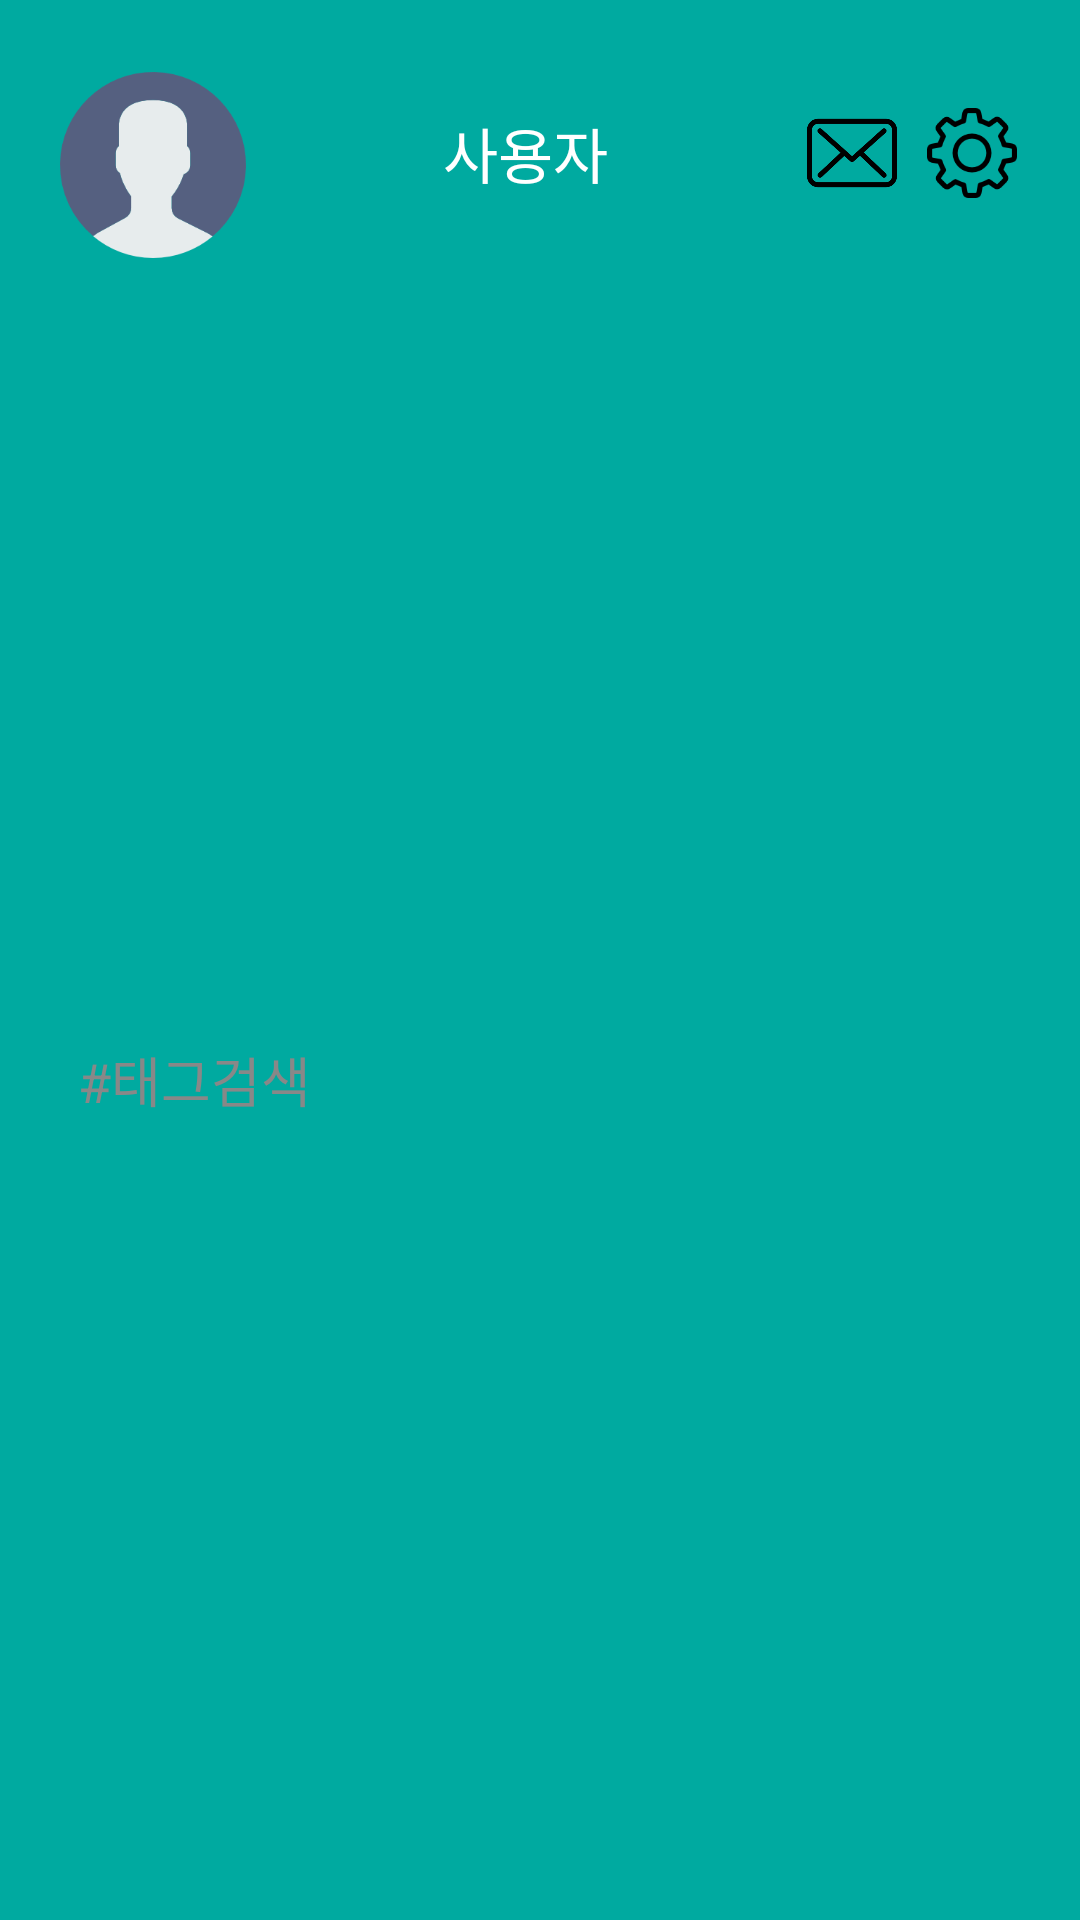

Screen size 1080px x 1920px. Icon name, then its center in pixels as point (x, y):
mail: point (852, 153)
setting: point (972, 153)
user: point (153, 165)
